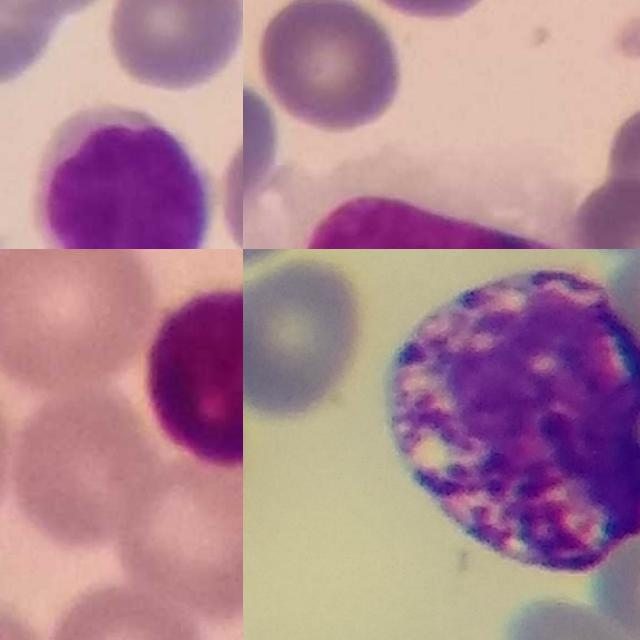Basophil: (384, 265, 640, 575)
Lymphocyte: (28, 105, 220, 249), (143, 277, 243, 472)
Monocyte: (243, 164, 611, 249)
